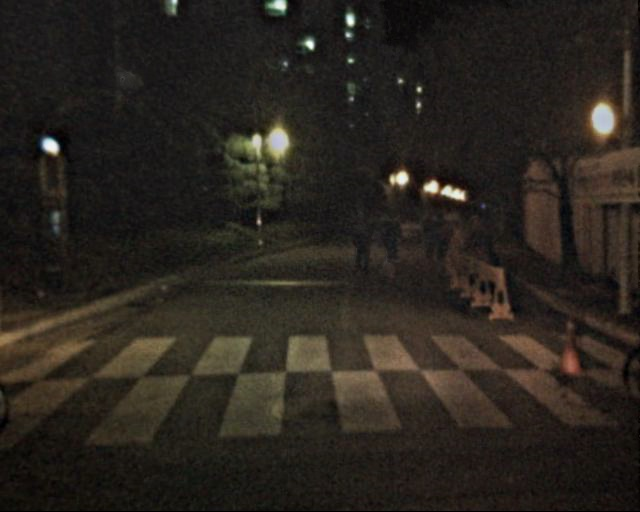person: (373, 206, 405, 284), (344, 207, 373, 277), (418, 207, 441, 262), (431, 209, 452, 260)
